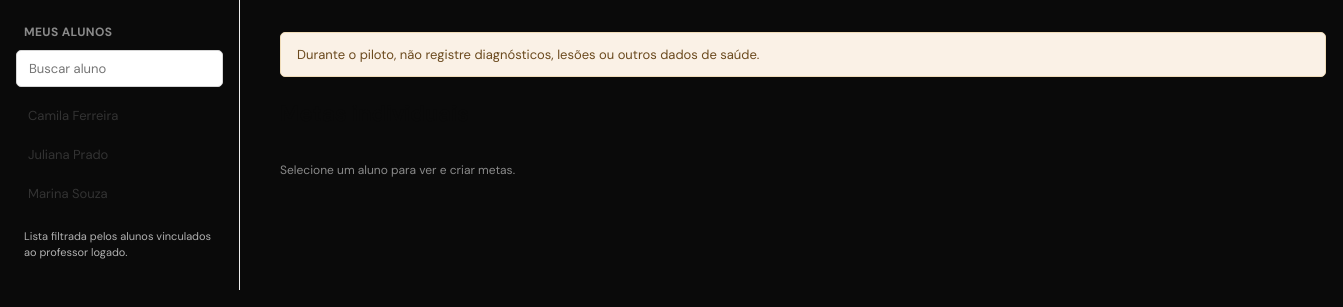
Test: Metas individuais (professor) › lista os alunos do professor, com busca, e pede para escolher um
Check: the text "Selecione um aluno para ver e criar metas." is shown, box [280,162,515,178]
Check: the text "Durante o piloto, não registre diagnósticos, lesões ou outros dados de saúde." is shown, box [280,32,1326,77]
In the search field labelled "Buscar aluno": (120, 68) [16,50,223,87], type "mar"
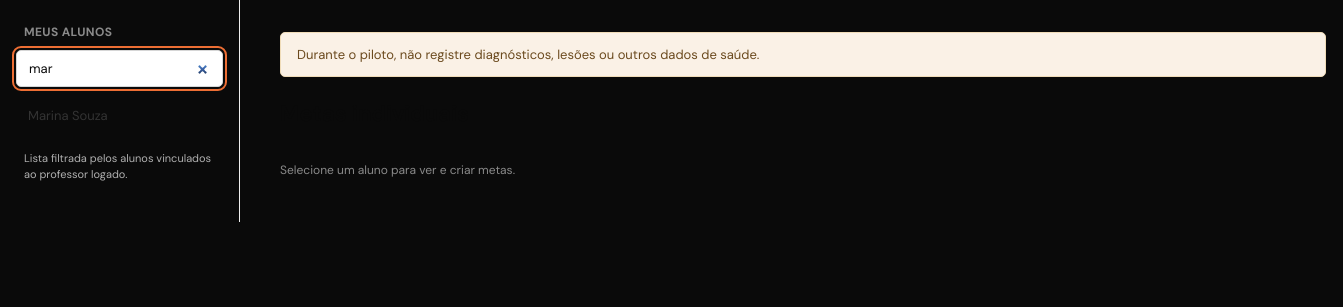
Check: the buttons read "Marina Souza", in this order, box [16,97,223,134]
